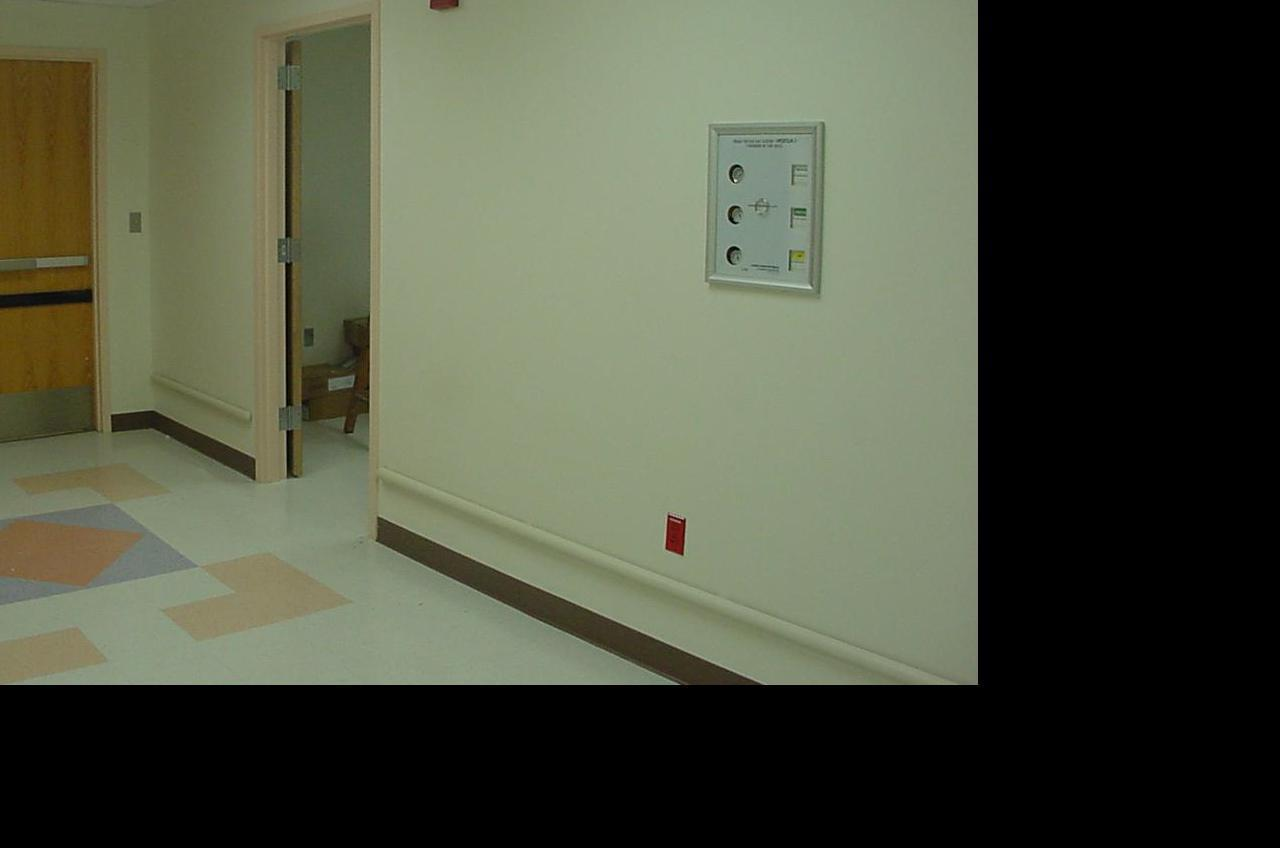Puerta: (0, 37, 109, 464)
